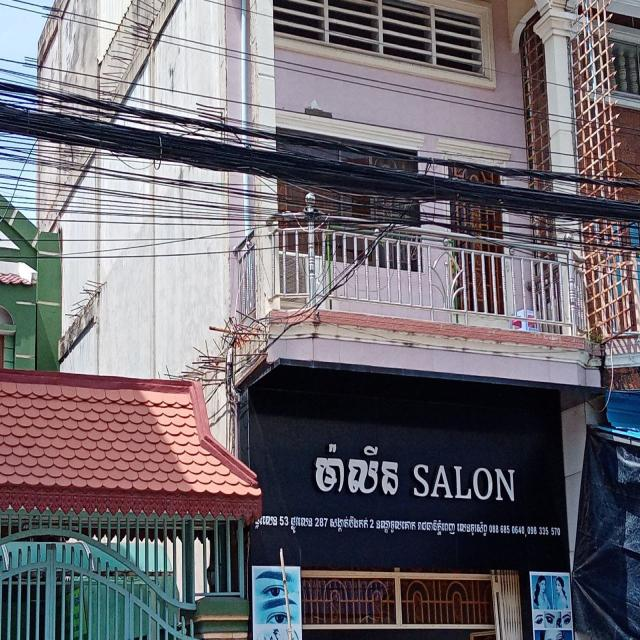72: (260, 507, 458, 543)
Yolov11_80vkh: (298, 430, 408, 502)
